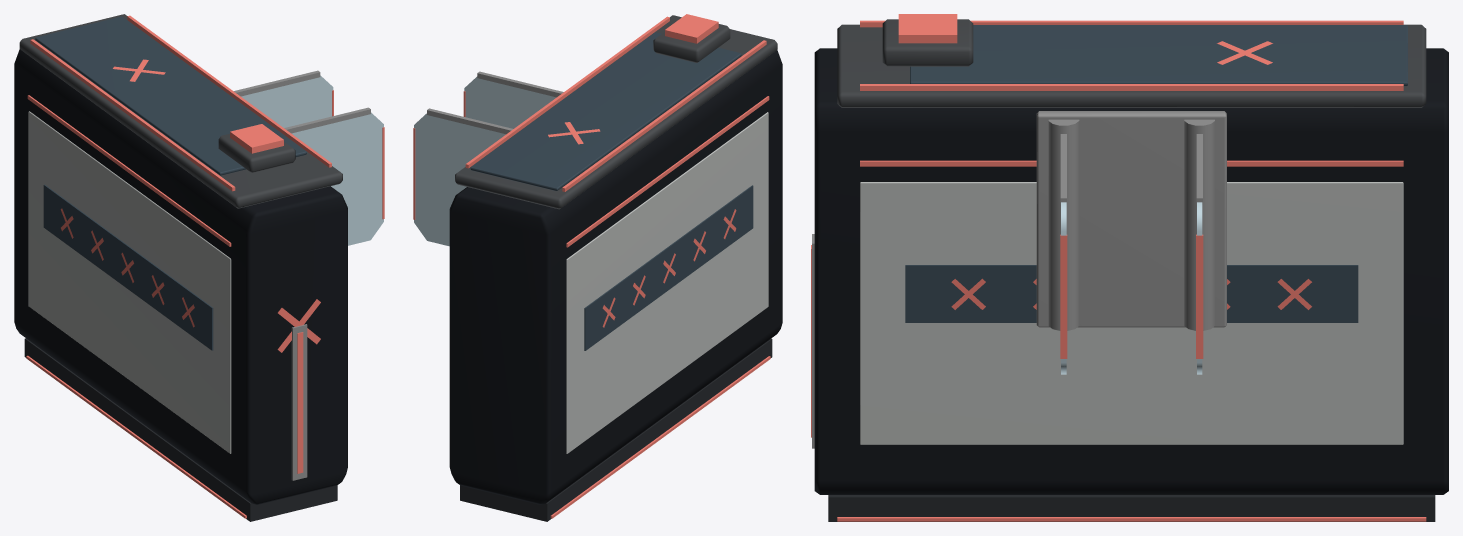
The model's file is Metro_TicketGate_Red.fbx.
The picture shows the model from 3 angles, left to right: view 1: azimuth 30°, elevation 25°; view 2: azimuth 150°, elevation 25°; view 3: azimuth 270°, elevation 25°; orthographic projection. The views are drawn at different scales.
Visible parts, largest first — view 1: Metro_TicketGate_Red_LOD0; view 2: Metro_TicketGate_Red_LOD0; view 3: Metro_TicketGate_Red_LOD0.
Part boxes in pixels (x1,y1,x2,y2): Metro_TicketGate_Red_LOD0: [14, 14, 384, 521]; Metro_TicketGate_Red_LOD0: [413, 14, 782, 521]; Metro_TicketGate_Red_LOD0: [811, 14, 1448, 521].
Size of what is drawn, in the model's own units: 0.791 by 1.14 by 1.41.
